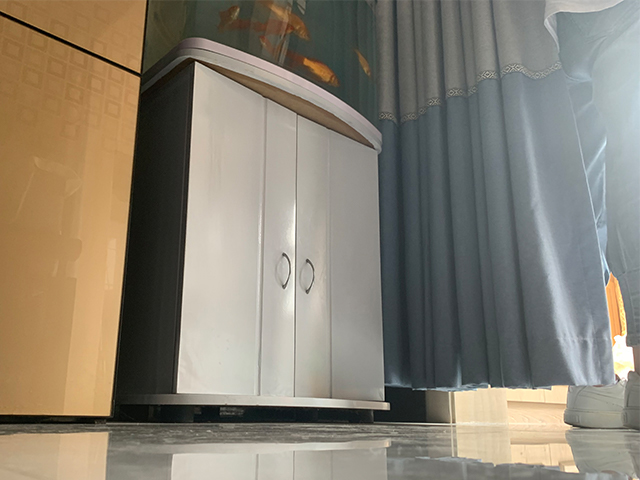cabinet: (111, 35, 392, 422), (1, 1, 149, 423)
curtain: (374, 1, 616, 392)
